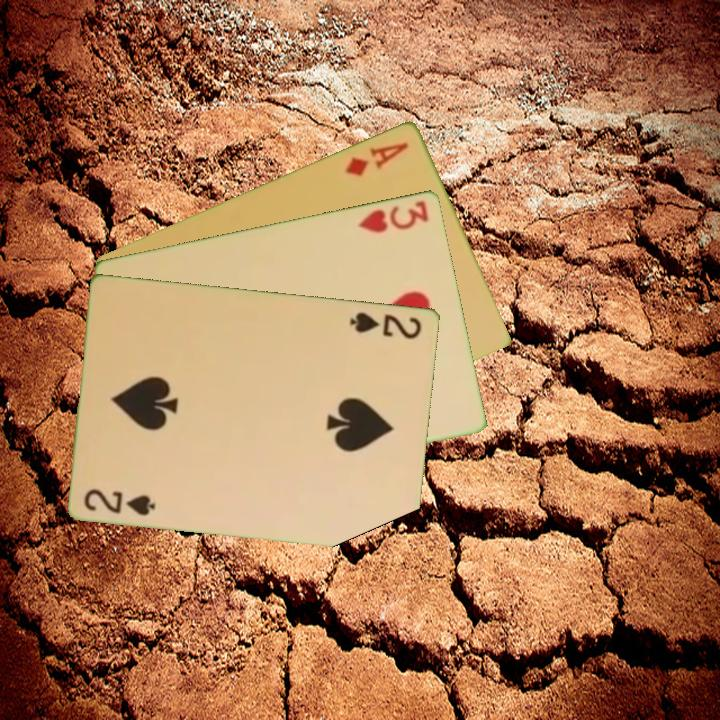2s: (346, 308, 425, 342), (81, 485, 159, 519)
3h: (355, 196, 432, 235)
Ad: (342, 138, 412, 179)
